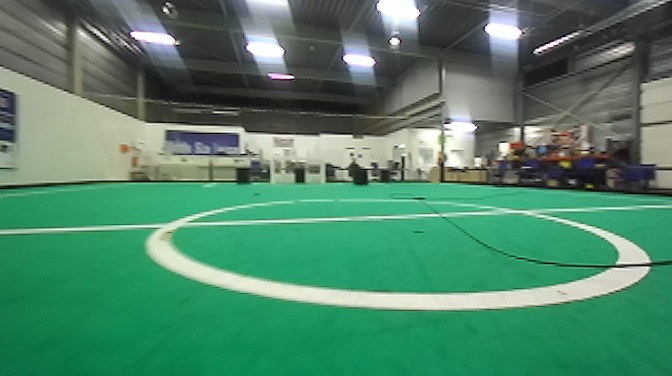goalpost: (312, 157, 326, 185), (268, 151, 277, 185)
